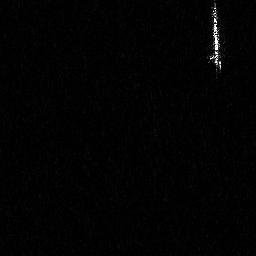ship: (207, 1, 224, 75)
